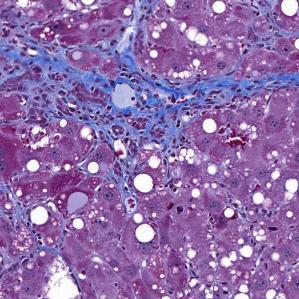fibrosis: (27, 51, 183, 154)
